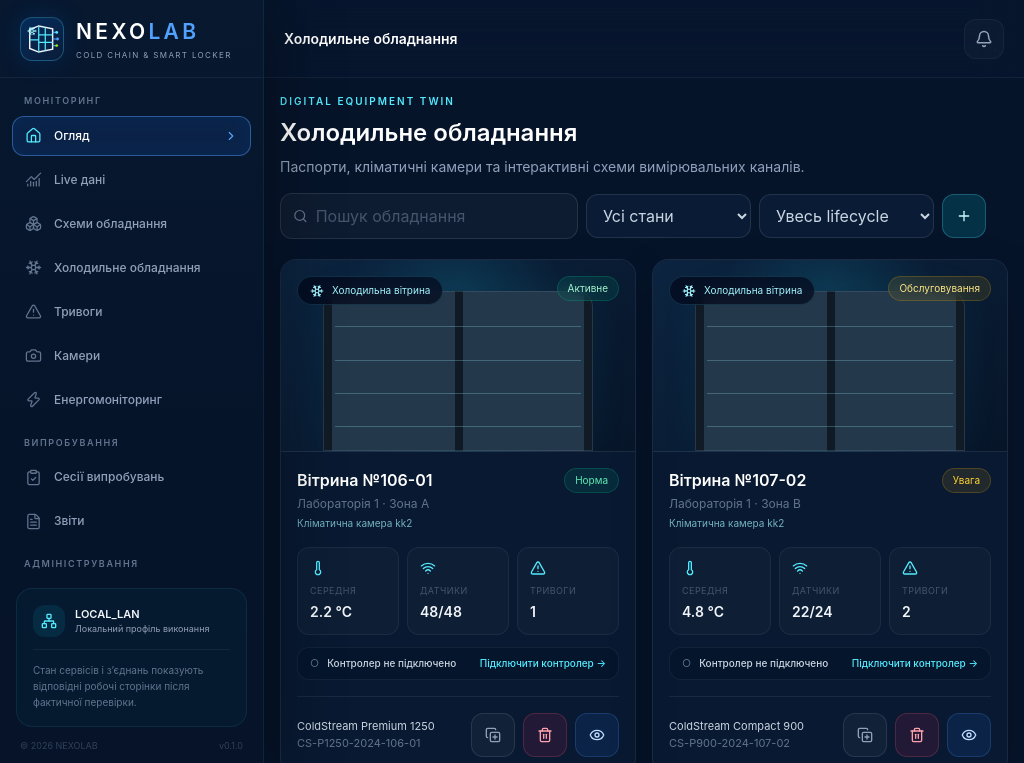
RefrigerationCatalogScreen › deletes equipment through the destructive confirmation dialog
The image size is (1024, 763).
expect the heading "Вітрина №106-01" is shown: met, box 297,468 -> 432,492
Click the button named "Видалити Вітрина №106-01".
click(545, 734)  # box 523,712 -> 567,756
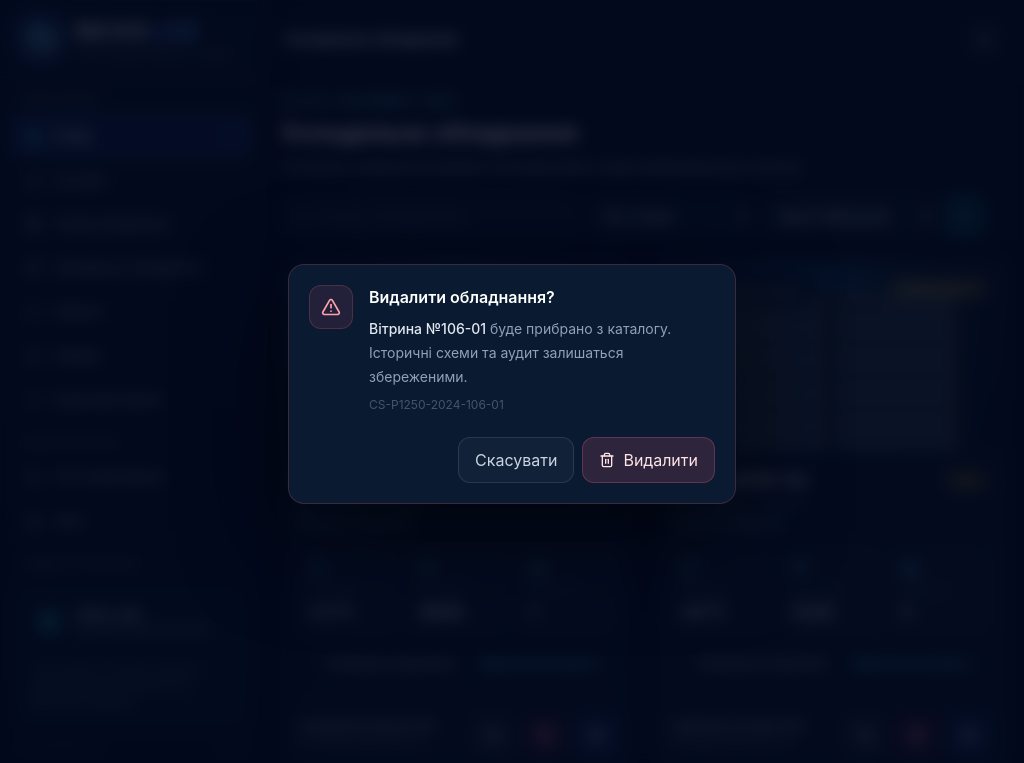
expect the dialog is shown: met, box 288,264 -> 736,504
Click the button "Видалити".
click(649, 460)  # box 582,437 -> 715,483
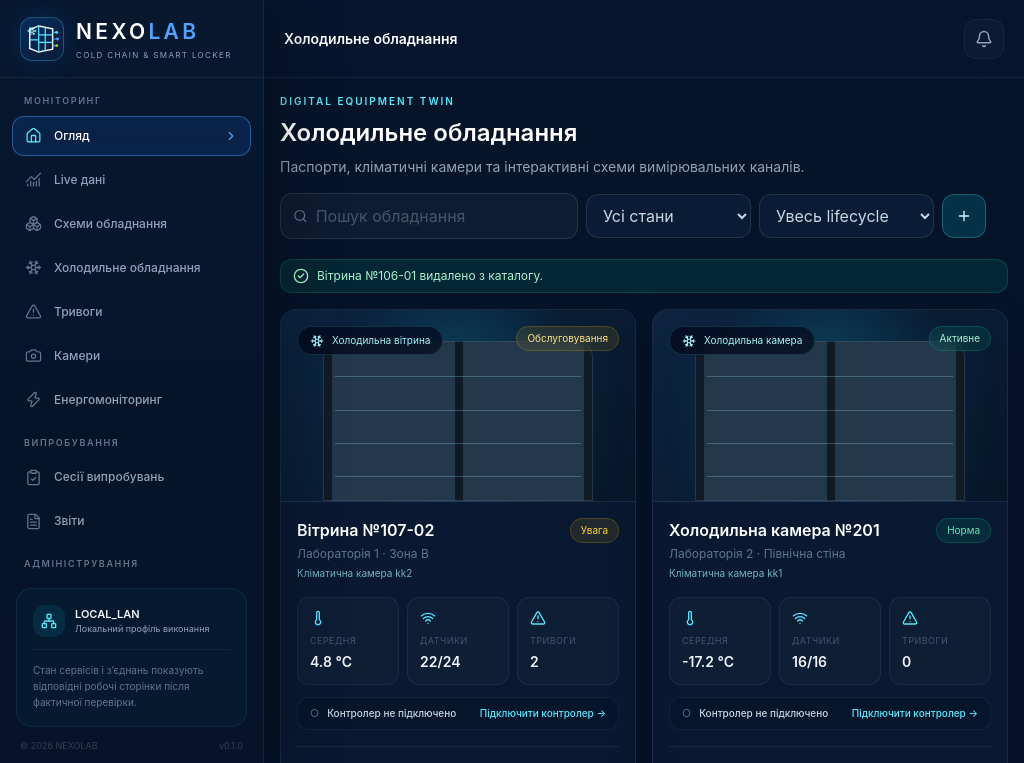
expect the message shows "видалено з каталогу": met, box 317,268 -> 543,283
